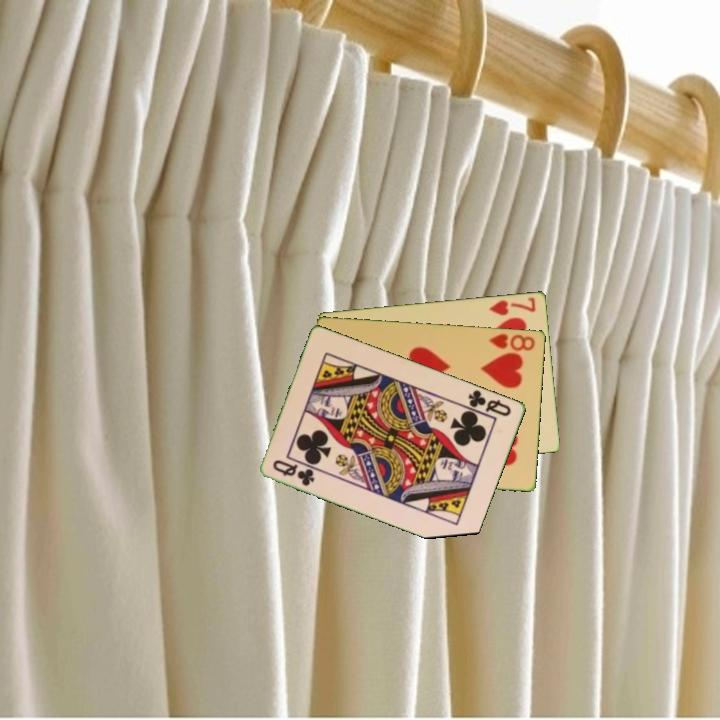7h: (486, 294, 539, 318)
8h: (486, 330, 538, 353)
Qc: (461, 386, 514, 420), (270, 456, 318, 489)
